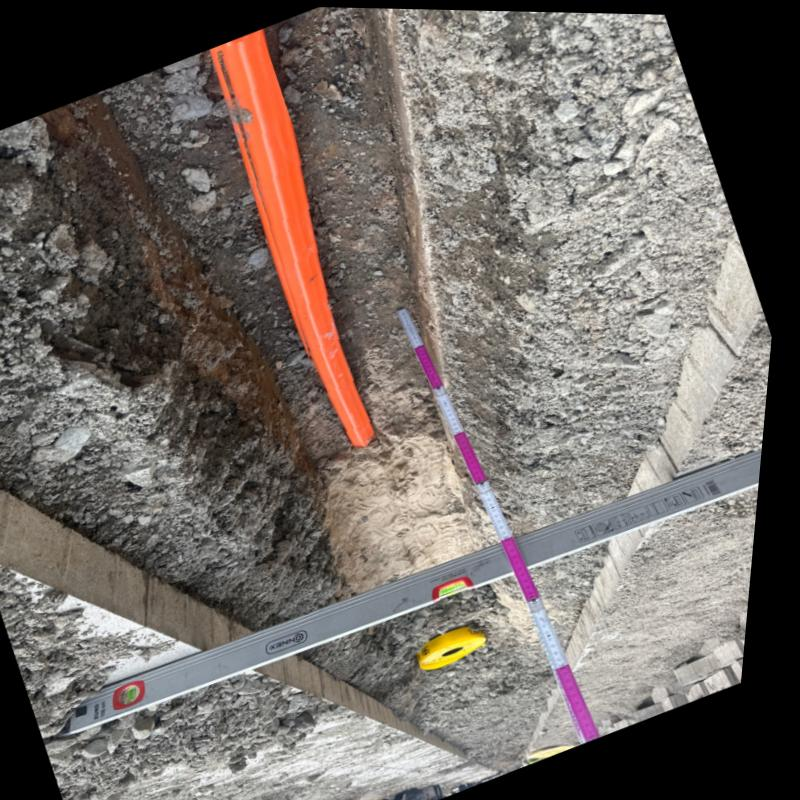Orang-Speednetrohrchen: (222, 30, 386, 445)
